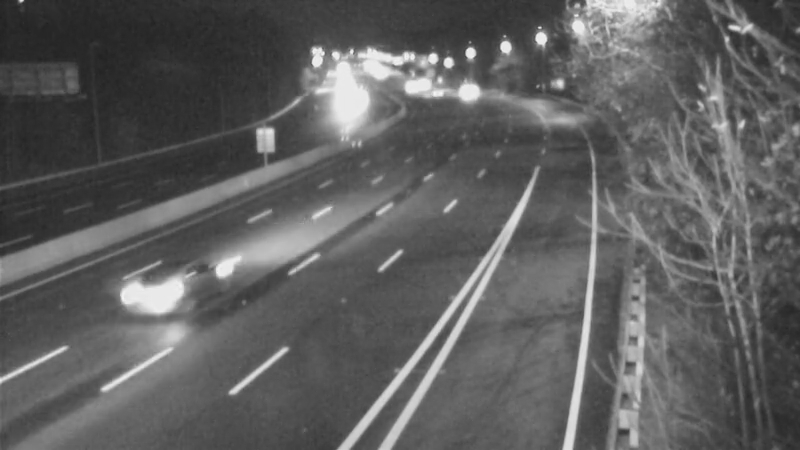vehicle: (125, 248, 205, 328), (381, 63, 431, 113), (411, 67, 461, 117), (443, 61, 493, 111)
